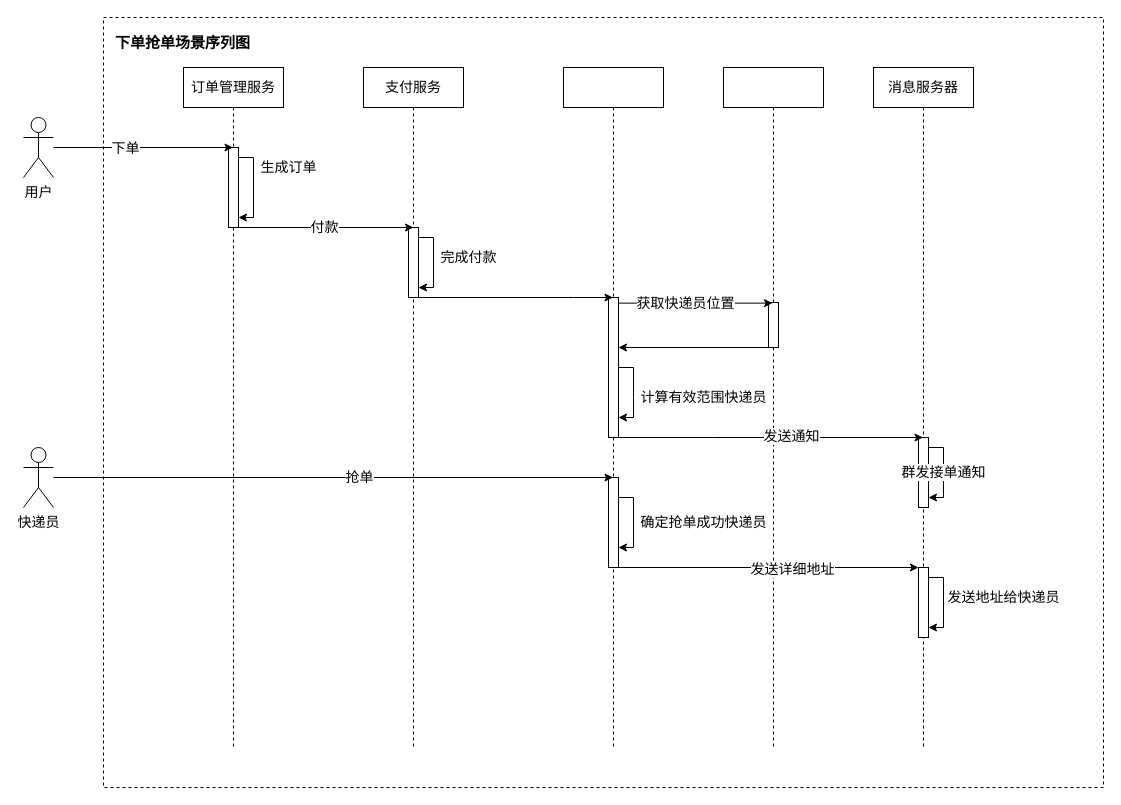
This 1121x805 diagram has some shape labels left out. The shapes that lost their labels are listed below. From the top down, each one's centre as x and y in pixels, then its label:
pixel 613 407: 派单服务
pixel 773 407: 缓存服务器
